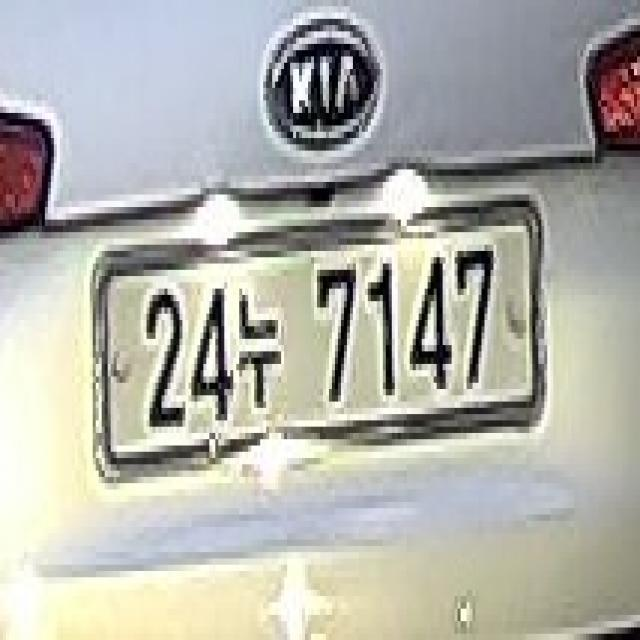1: (365, 252, 400, 402)
2: (134, 281, 188, 437)
4: (406, 246, 454, 392), (192, 273, 234, 424)
7: (312, 254, 358, 406), (456, 237, 500, 392)
license_plate: (104, 211, 533, 455)
nu: (236, 270, 286, 416)
